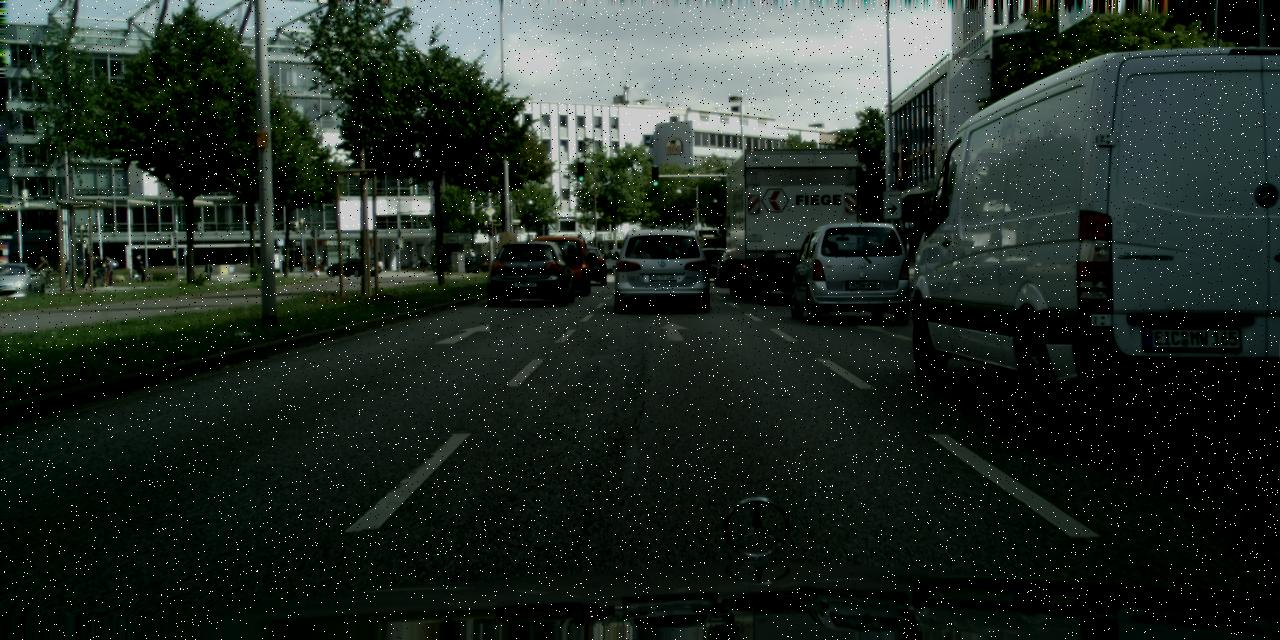ped: (94, 256, 114, 286), (134, 254, 145, 280), (40, 255, 50, 281), (419, 253, 424, 268)
